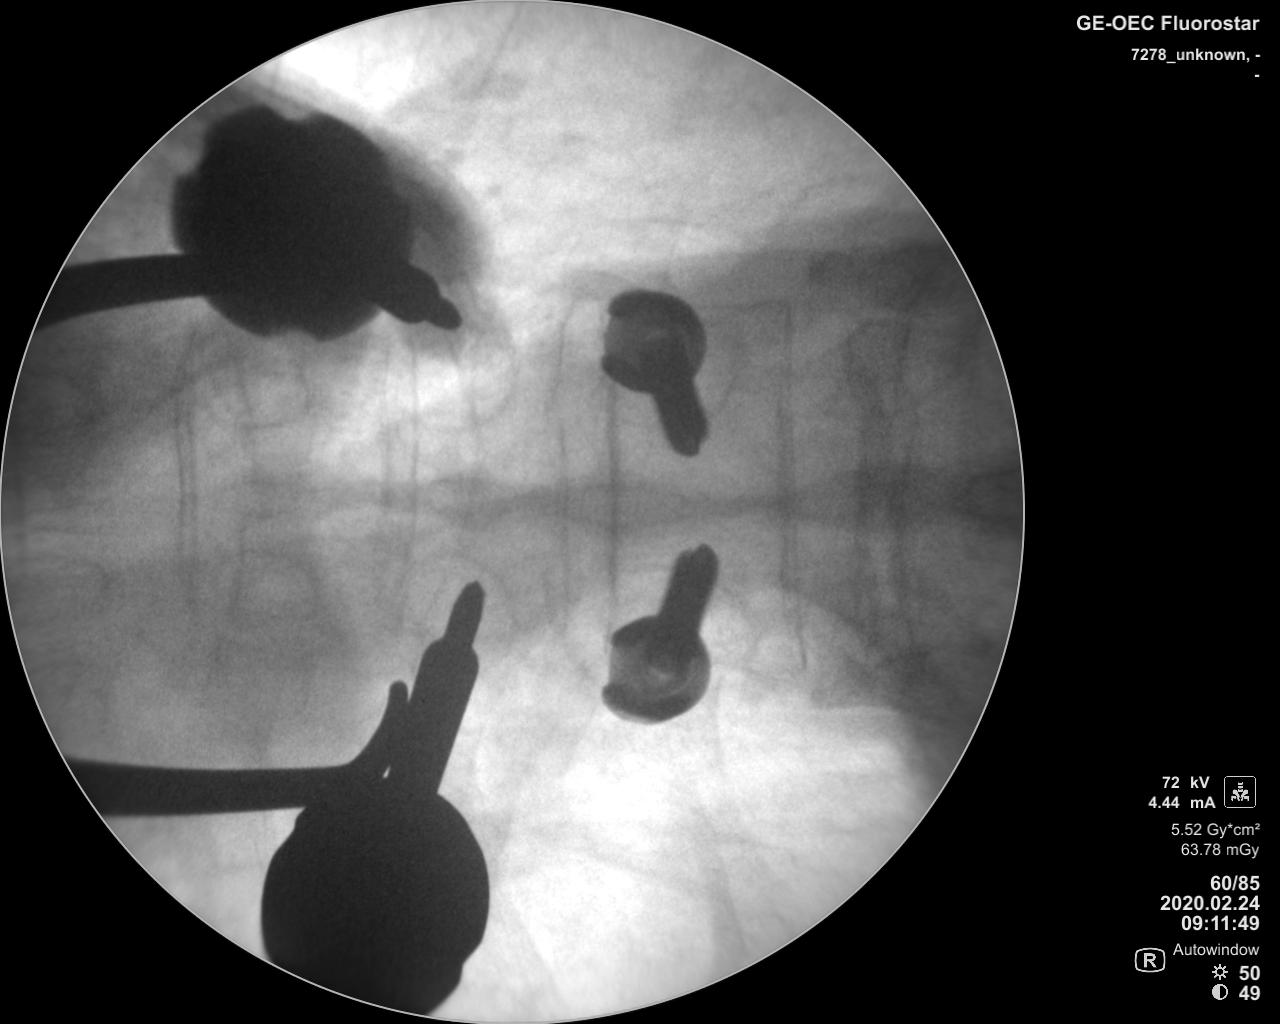eyes: (386, 326, 526, 436), (396, 552, 518, 641), (606, 563, 743, 637), (195, 348, 315, 430), (213, 551, 320, 629)
line: (764, 336, 808, 647), (373, 342, 420, 630), (538, 383, 574, 636), (167, 375, 203, 621), (592, 380, 626, 618)
nose: (769, 460, 953, 536), (362, 464, 534, 528), (546, 472, 709, 525), (197, 469, 356, 519)
